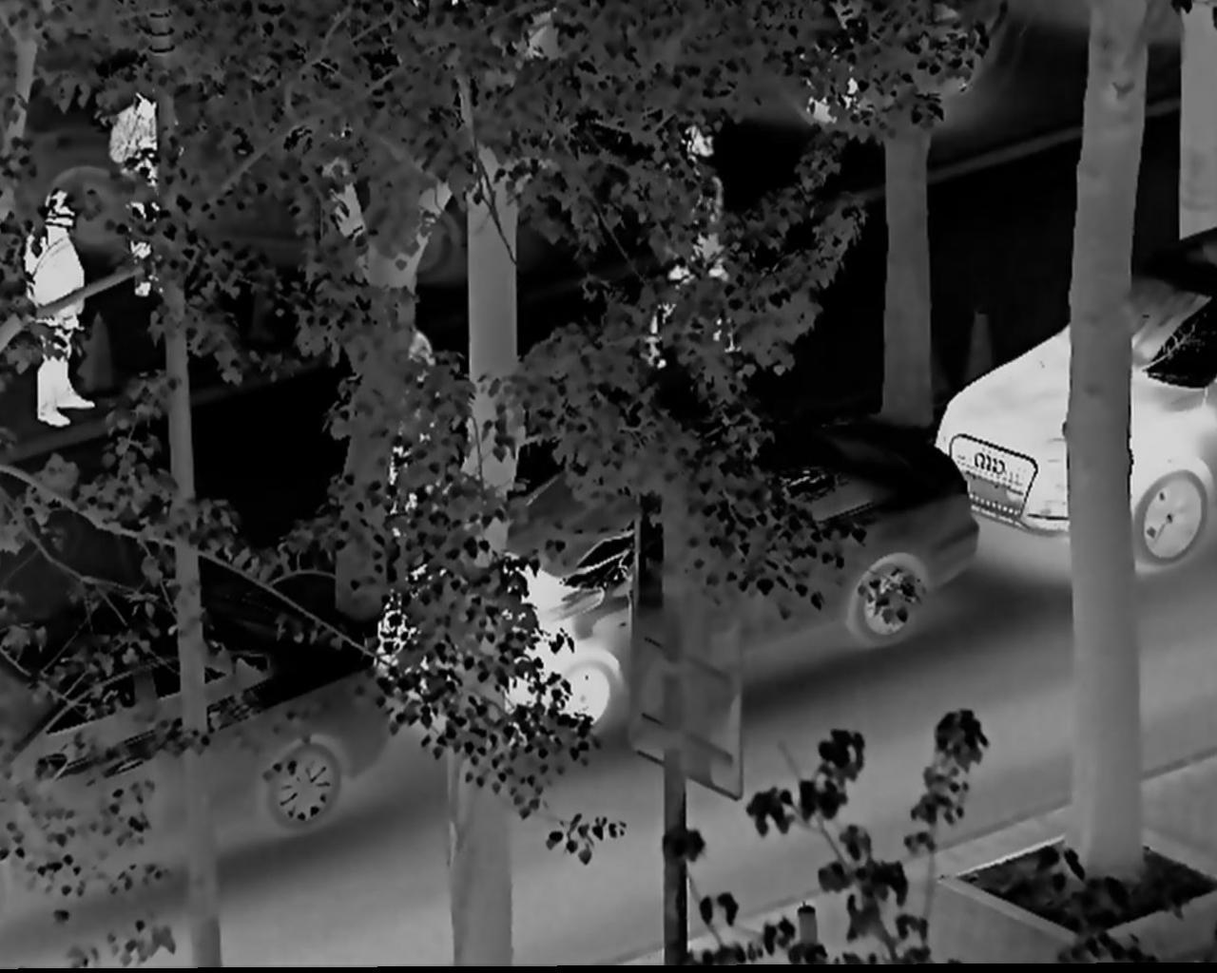person: (642, 121, 728, 369), (17, 189, 105, 426), (108, 85, 184, 302)
